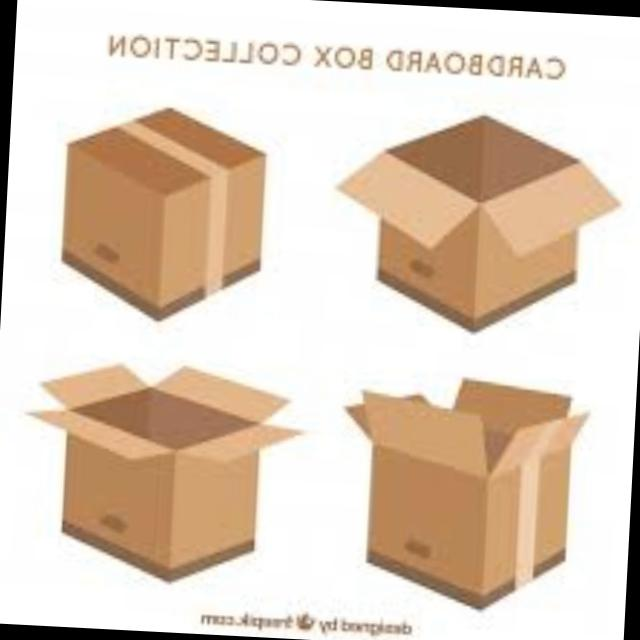cardboard paper: (345, 112, 621, 323), (47, 361, 297, 572), (356, 377, 587, 600), (67, 105, 268, 312)
